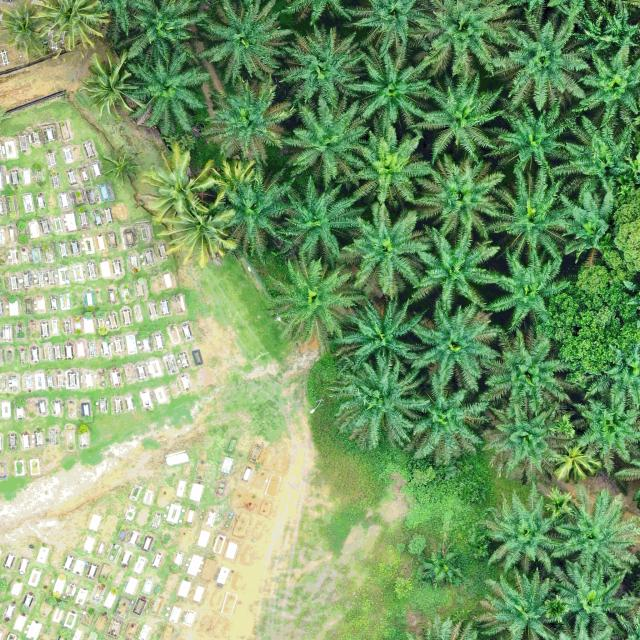0: (488, 6, 594, 112), (262, 252, 366, 351), (338, 204, 447, 298), (408, 149, 508, 244), (408, 0, 526, 79), (200, 78, 302, 168), (329, 359, 432, 448), (194, 0, 302, 84), (484, 167, 572, 270), (273, 172, 368, 266), (411, 298, 504, 393), (479, 489, 578, 578), (481, 322, 571, 418), (129, 44, 213, 137), (552, 483, 640, 571), (549, 555, 640, 640), (471, 565, 574, 640), (334, 290, 431, 369), (402, 380, 491, 466), (413, 225, 502, 311), (418, 73, 506, 159), (338, 129, 427, 213), (278, 21, 364, 107), (282, 100, 370, 183), (484, 246, 574, 327), (349, 45, 433, 131), (559, 112, 640, 198), (478, 401, 566, 480), (225, 166, 297, 262), (483, 100, 572, 176), (570, 35, 640, 127), (159, 192, 240, 270), (110, 0, 209, 59), (550, 184, 620, 265), (140, 144, 214, 220), (340, 0, 440, 55), (573, 396, 640, 475), (79, 50, 144, 120), (32, 0, 112, 53), (583, 341, 640, 412), (0, 0, 49, 60), (207, 156, 258, 208)
tree: (535, 257, 640, 383)
